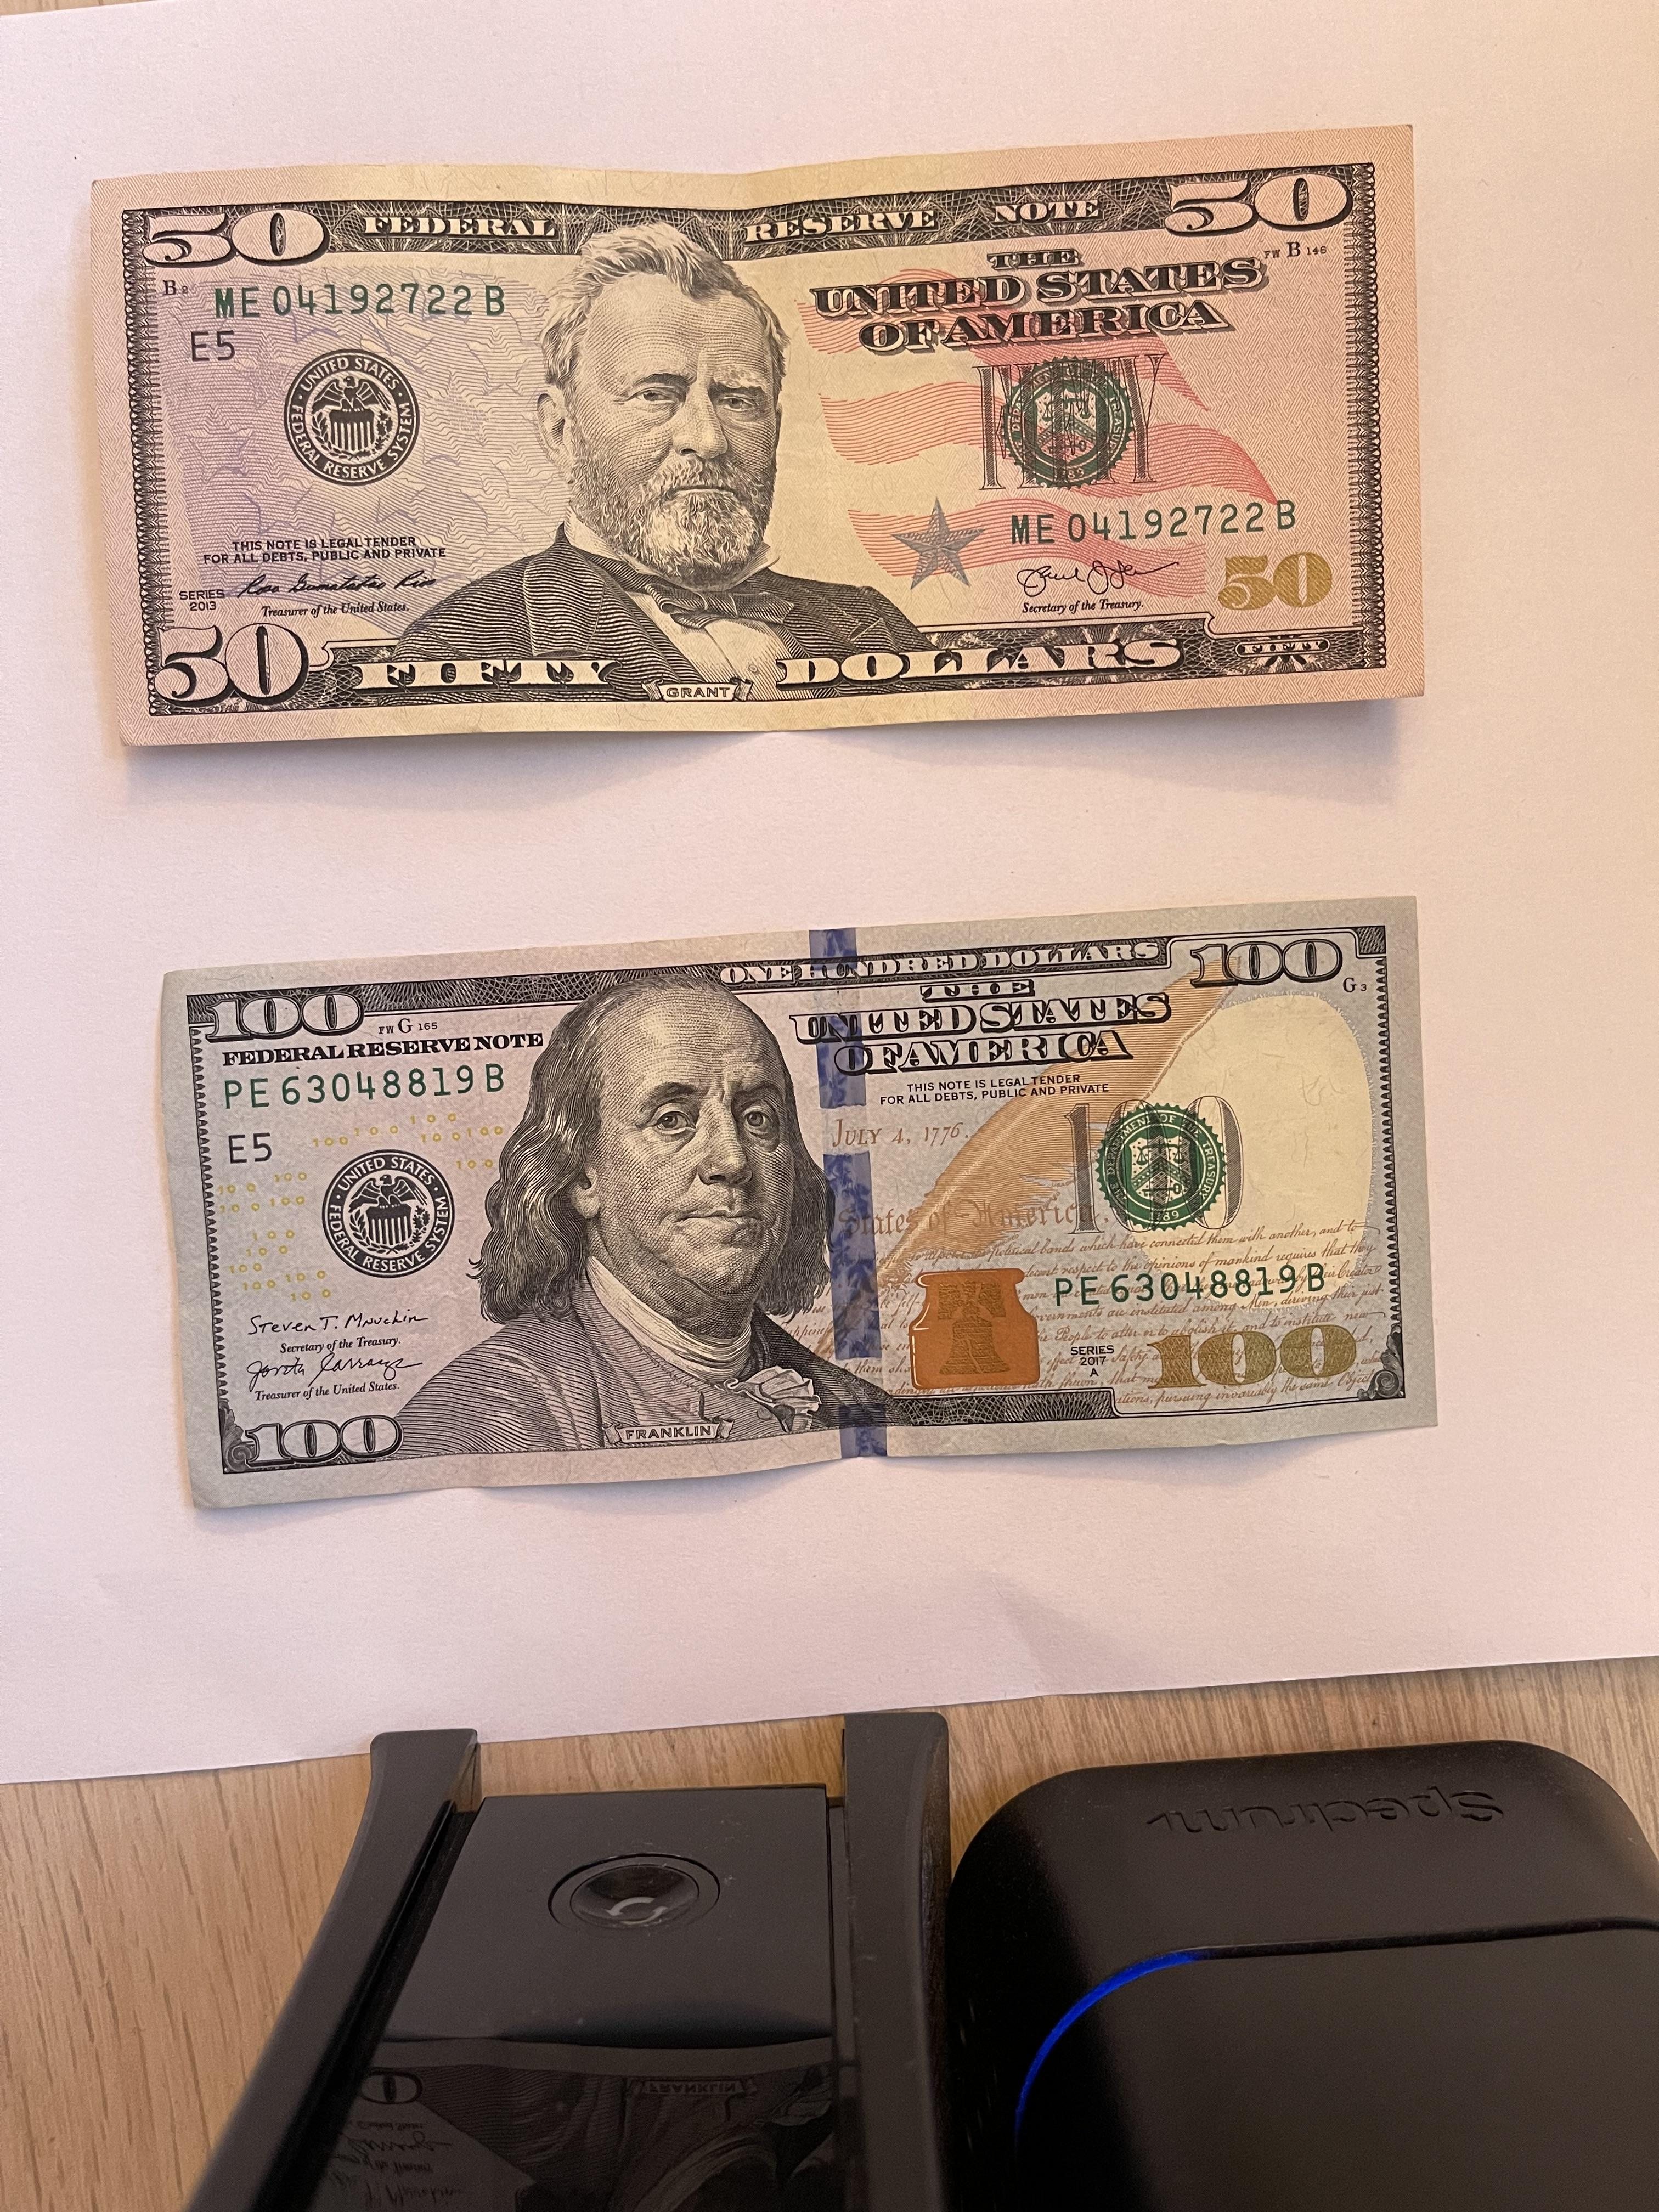FiftyBill: (84, 125, 1429, 752)
HundredBill: (157, 892, 1441, 1517)
